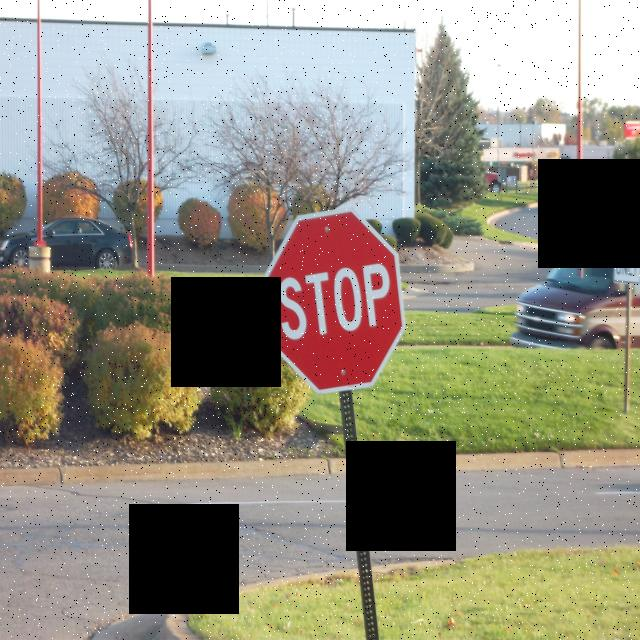regulatory: (607, 204, 640, 300)
stop: (260, 205, 411, 397)
